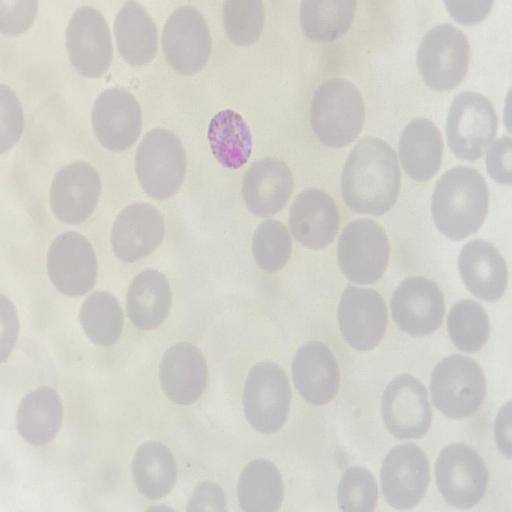Infected: (207, 108, 256, 168)
Uninfected: (340, 133, 404, 216), (430, 167, 489, 238), (134, 130, 188, 197), (429, 355, 485, 419), (309, 81, 364, 145), (160, 8, 213, 74), (336, 220, 392, 282), (290, 343, 344, 407), (46, 233, 100, 297), (416, 25, 470, 89), (444, 92, 497, 157), (65, 6, 114, 76), (241, 364, 292, 431), (90, 88, 143, 151), (337, 287, 389, 350), (157, 343, 209, 406), (110, 203, 165, 262), (49, 162, 102, 223), (380, 375, 432, 437), (378, 446, 429, 508), (242, 158, 296, 216), (390, 277, 444, 335), (435, 445, 486, 505), (113, 2, 159, 68), (290, 188, 339, 249), (457, 241, 506, 300), (124, 271, 172, 331), (398, 119, 443, 179), (16, 388, 63, 444), (131, 443, 176, 499), (78, 292, 123, 347), (299, 1, 355, 43), (236, 460, 284, 509), (251, 218, 295, 270), (446, 301, 489, 351), (221, 1, 266, 46), (336, 467, 377, 511)
